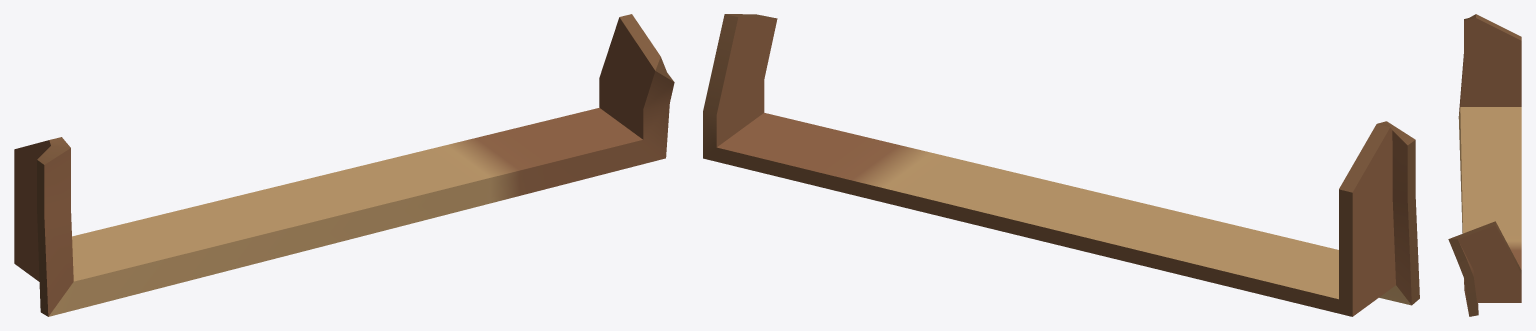
Rendered from DBK_WinWide_Trim_A_Tile.fbx.
3 views of the same model, side by side, from view 1: azimuth 30°, elevation 25°; view 2: azimuth 150°, elevation 25°; view 3: azimuth 270°, elevation 25° (orthographic). The views are drawn at different scales.
Parts seen in each view (by area): view 1: DBK_WinWide_Trim_A_Tile; view 2: DBK_WinWide_Trim_A_Tile; view 3: DBK_WinWide_Trim_A_Tile.
Part boxes in pixels (box(x1,y1,x2,y2)): DBK_WinWide_Trim_A_Tile: box(14, 14, 674, 316); DBK_WinWide_Trim_A_Tile: box(703, 14, 1419, 316); DBK_WinWide_Trim_A_Tile: box(1448, 14, 1521, 316).
Size of the model in its own units: 174 by 43.68 by 26.89.
